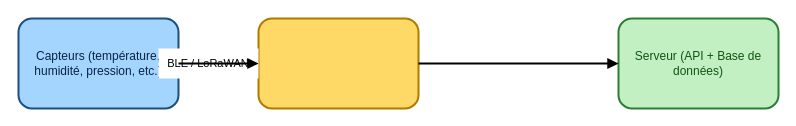
This 796x126 diagram has some shape labels left out. The shapes that lost their labels are listed below. From the top down, each one's box as (x1, y1, x2, y2) in pixels, then its label:
(257, 17, 419, 109): Hubs (Microcontrôleurs BLE / LoRaWAN)
(458, 48, 518, 78): MQTT
